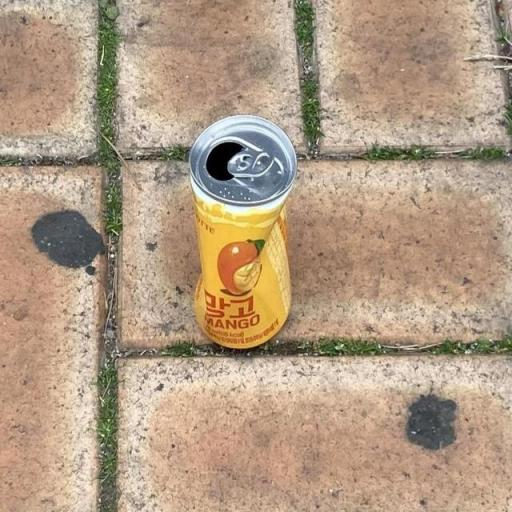metal: (173, 100, 312, 362)
